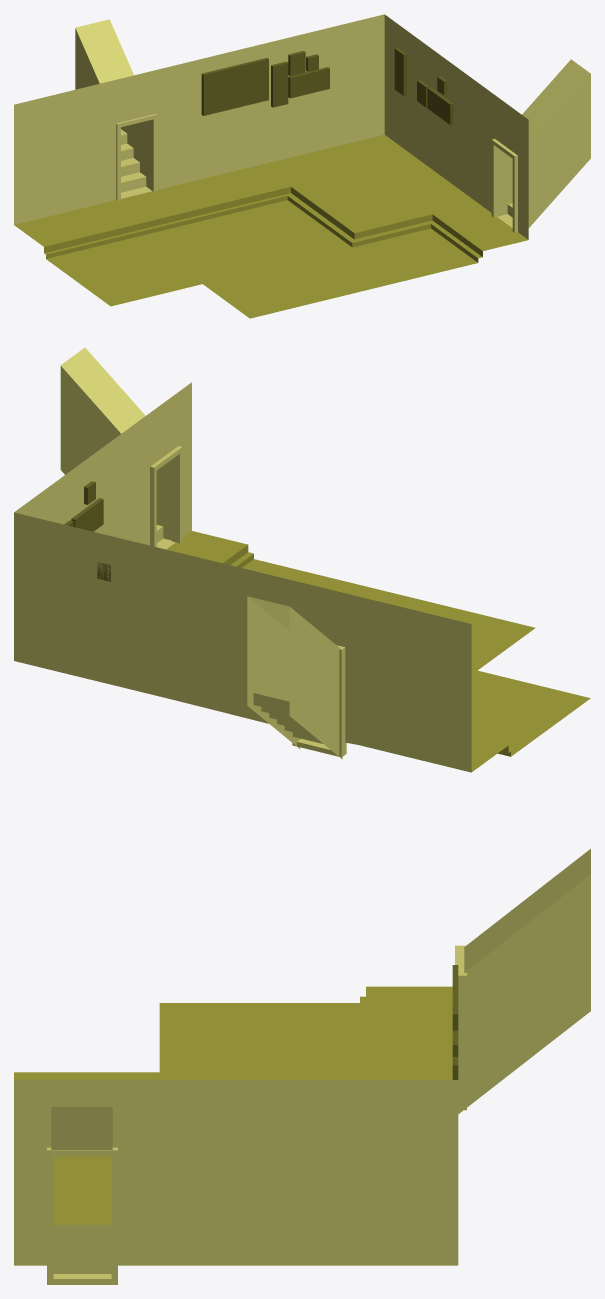
Rendered from blockout_Floor_and_Walls.fbx.
3 renders of one model, top to bottom at view 1: azimuth 30°, elevation 25°; view 2: azimuth 150°, elevation 25°; view 3: azimuth 270°, elevation 25°, orthographic. The views are drawn at different scales.
Visible parts, largest first — view 1: blockout_Floor_and_Walls; view 2: blockout_Floor_and_Walls; view 3: blockout_Floor_and_Walls.
Part boxes in pixels (bbox=[...]): blockout_Floor_and_Walls: bbox=[14, 14, 590, 318]; blockout_Floor_and_Walls: bbox=[14, 347, 590, 772]; blockout_Floor_and_Walls: bbox=[14, 849, 590, 1284].
Size of the model in its own units: 699 by 234 by 509.
Materials: 1 (1 with a texture image).
